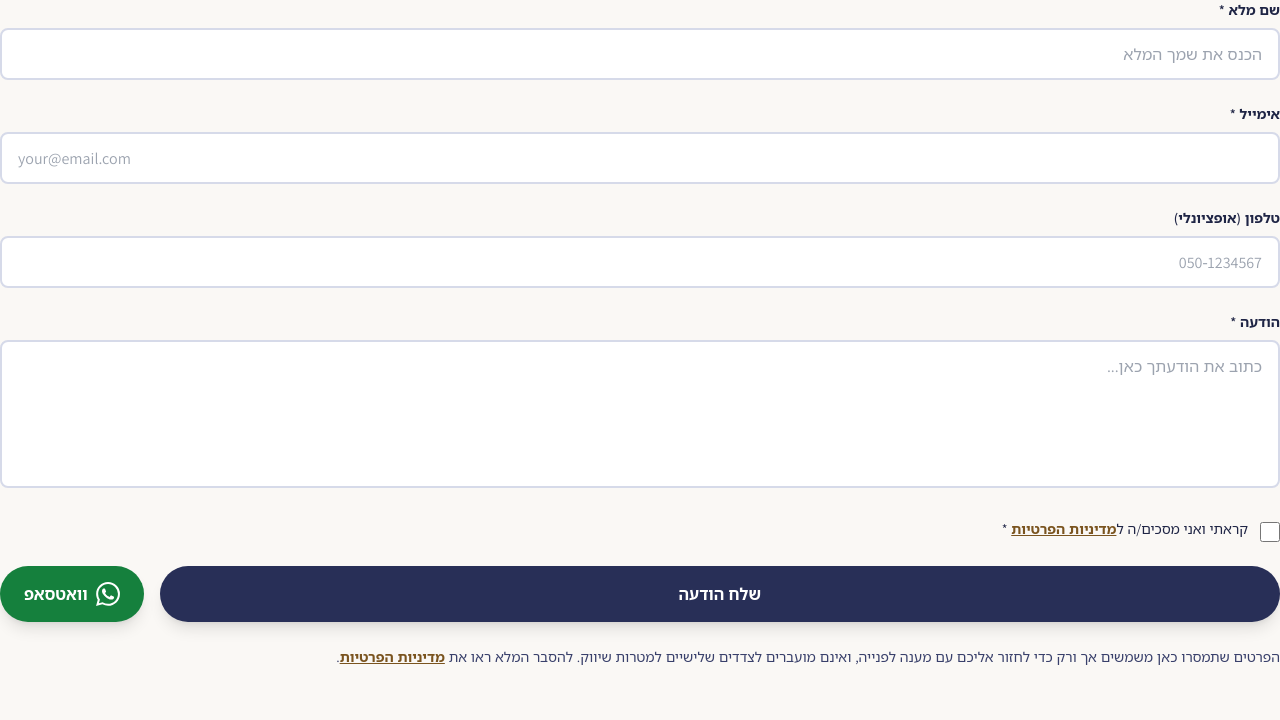
Test: ContactForm Component › validates required fields
This screenshot has width=1280, height=720.
Click the button "שלח הודעה" at (720, 594), box [160,566,1279,622]
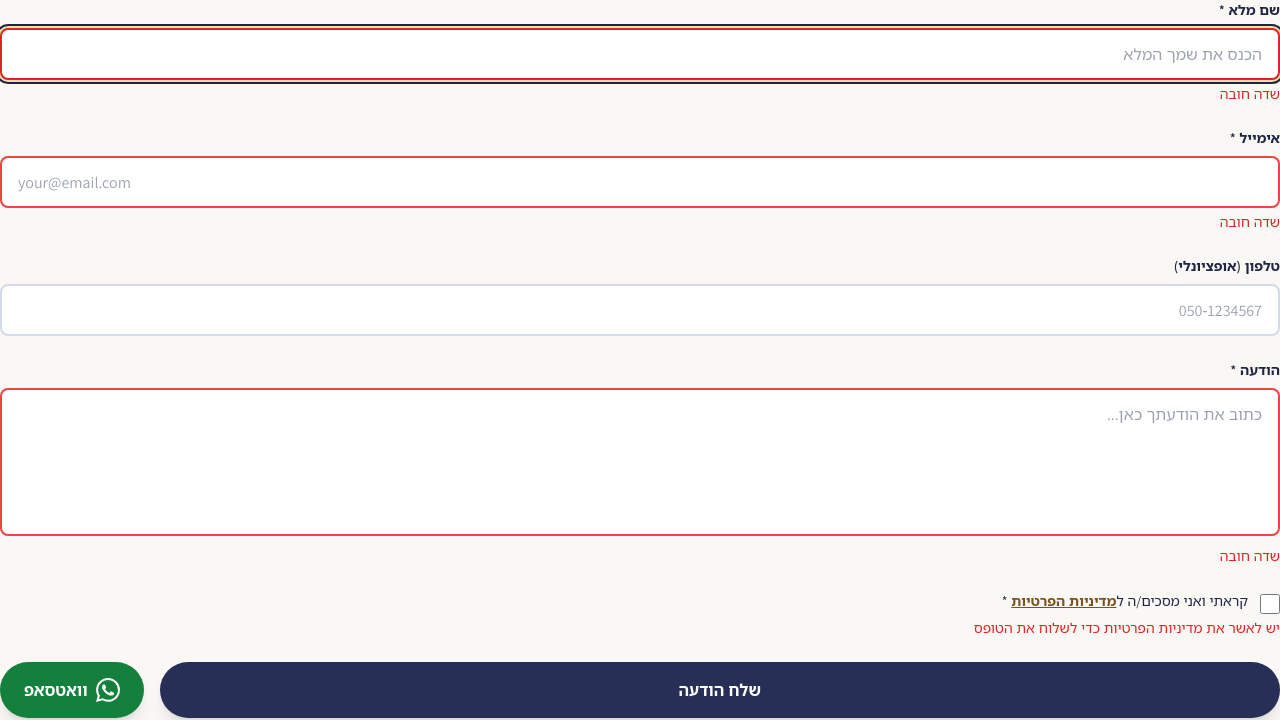
Now the text "שדה חובה" is shown 3 times, box [1220,84,1279,103]; [1220,212,1279,231]; [1220,546,1279,565]
